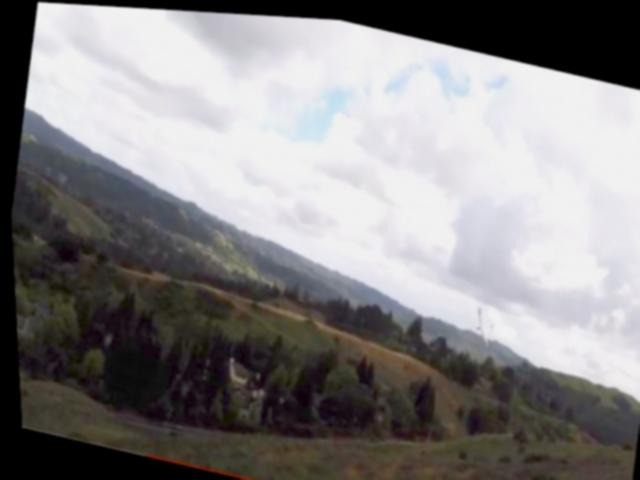iha: (469, 301, 491, 338)
